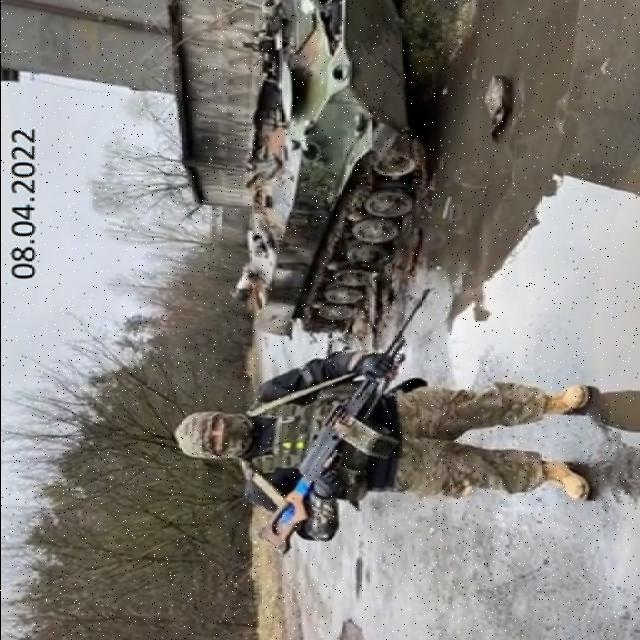APC-IFV: (216, 2, 434, 338)
